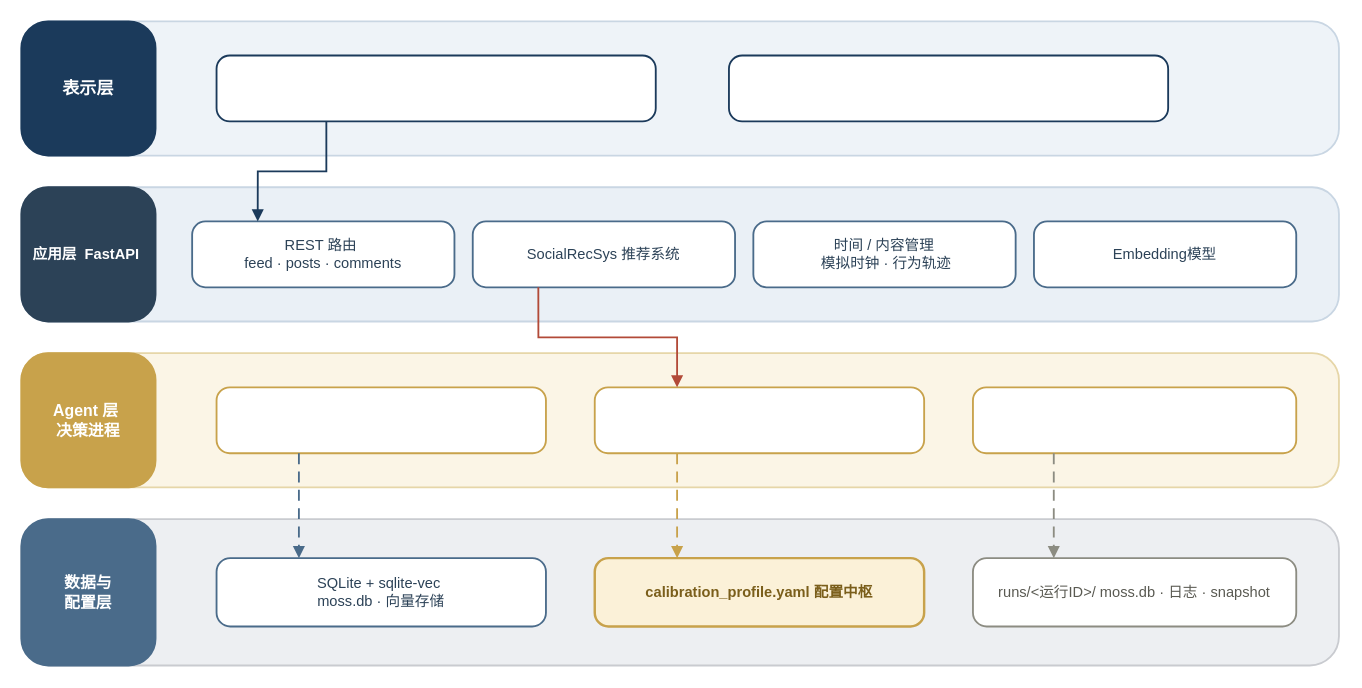
The diagram is 1362 pixels wide and 688 high, and some of its shapes have lost their labels. Here are the shapes that lost their labels. From the top down, the centre of each, then its label:
At (435,88): "前端单页应用 React 19 · Vite · Tailwind v4".
At (948,88): "用户交互界面 信息流浏览 · 行为操作".
At (380,420): "AgentGraph 调度 agents.csv · 画像注入".
At (759,420): "决策循环 + 记忆系统 发帖 / 评论 / 点赞 / 转发".
At (1134,420): "LangChain ChatOpenAI 大 / 小模型分层驱动".
